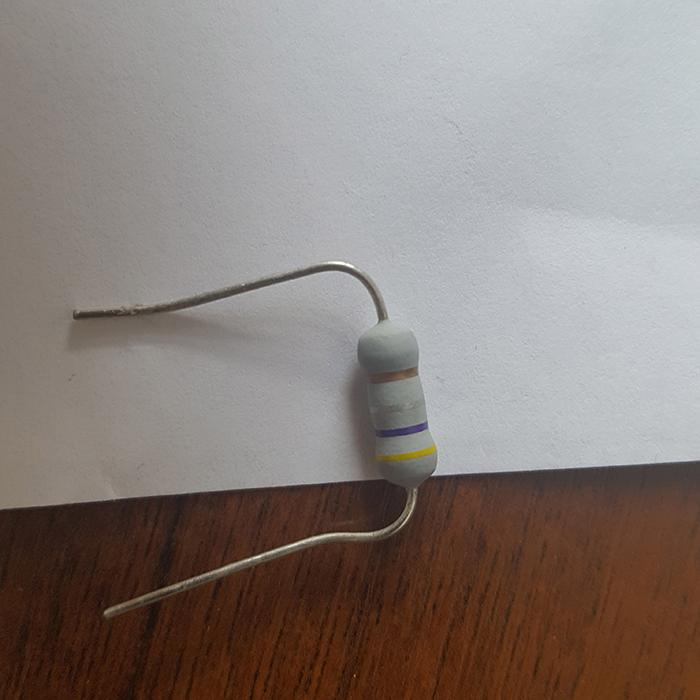resistor: (357, 317, 440, 489)
